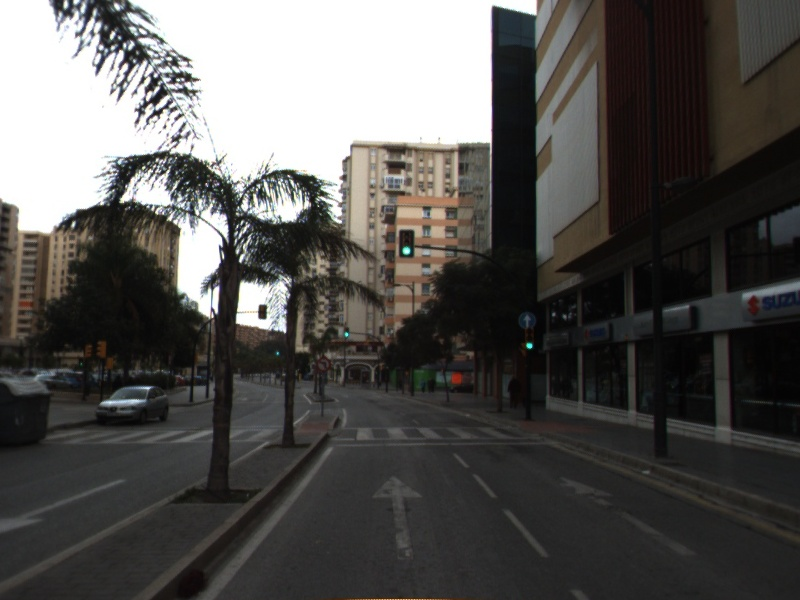STRAIGHT: (554, 470, 703, 560), (367, 472, 429, 565)
